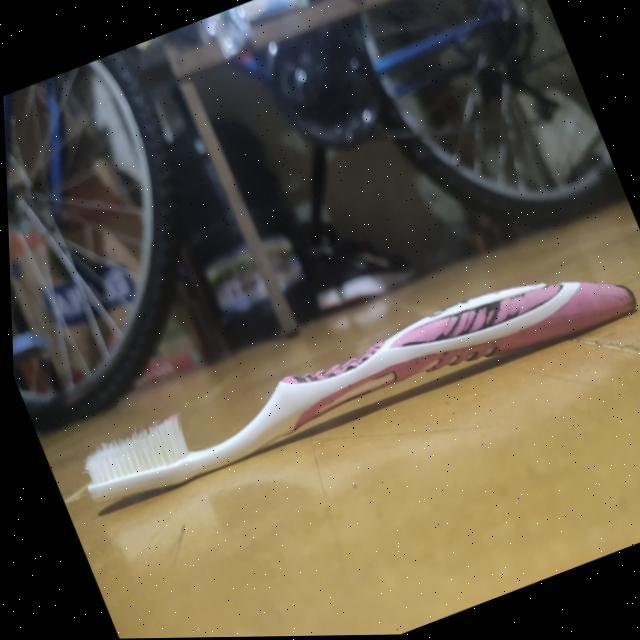toothbrush: (25, 210, 640, 552)
